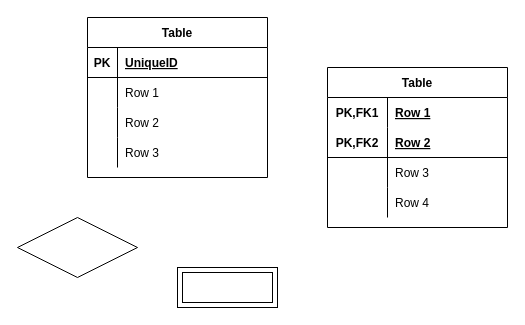
This 525x325 diagram has some shape labels left out. The box of each missing label's shape, as (x1, y1, x2, y2) in pixels:
Entity: (176, 266, 278, 308)
Relationship: (16, 216, 138, 278)
